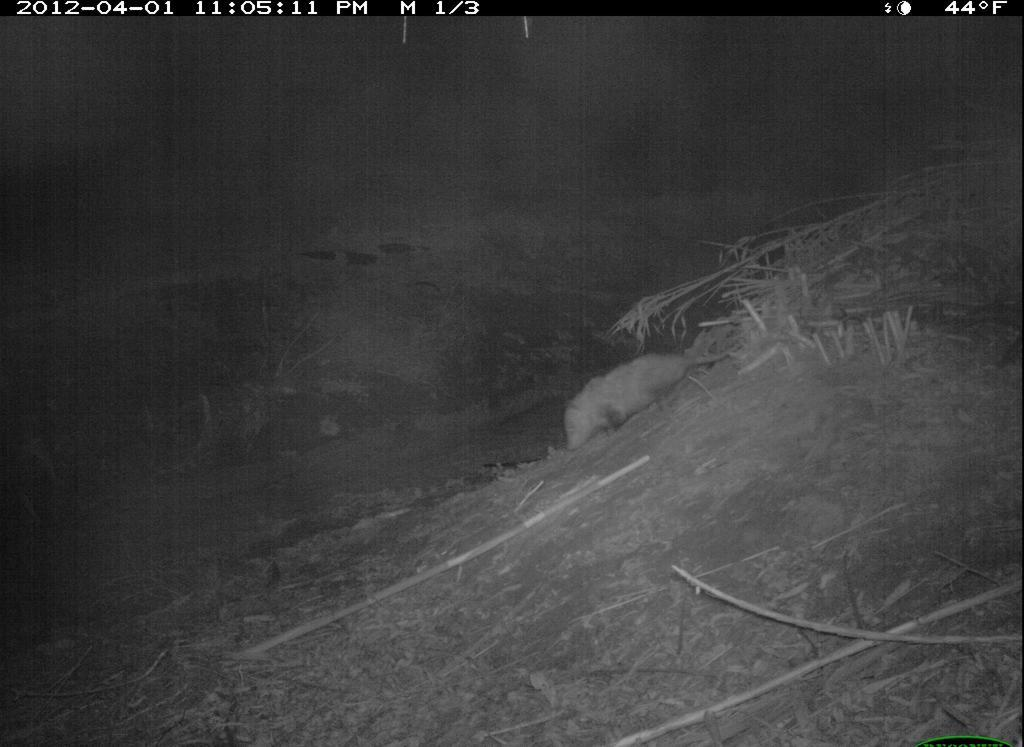opossum: (552, 344, 751, 454)
